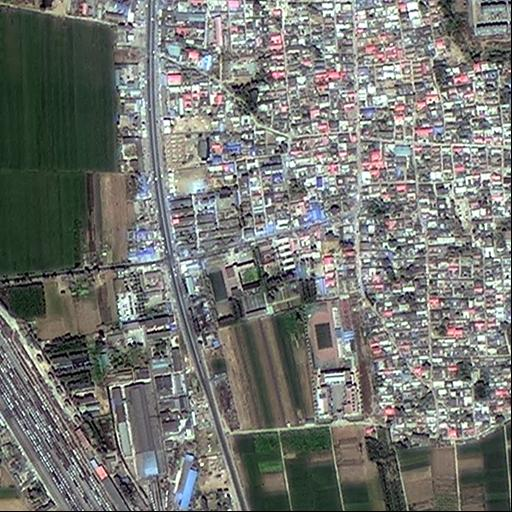school: (300, 297, 365, 422), (195, 243, 269, 328)
